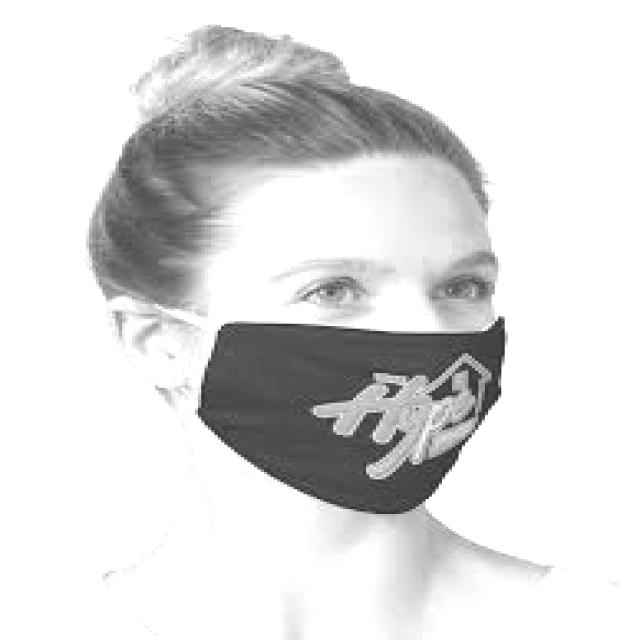fake: (119, 283, 574, 536)
real: (184, 154, 503, 525)
